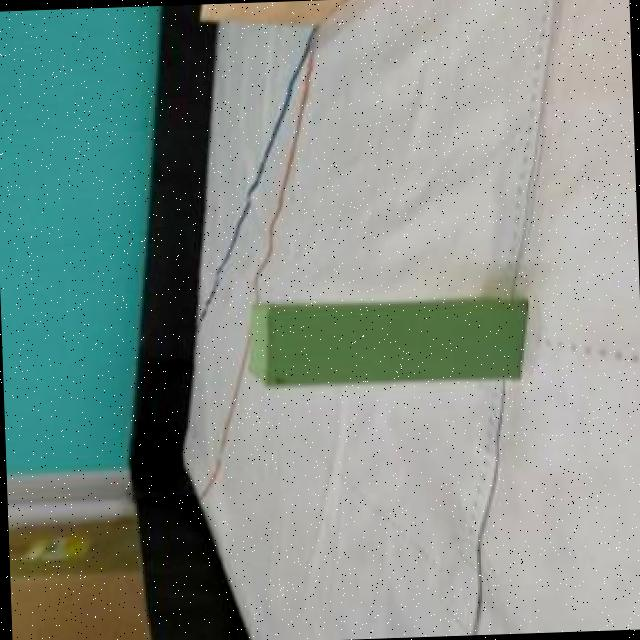greenbox: (246, 296, 531, 386)
